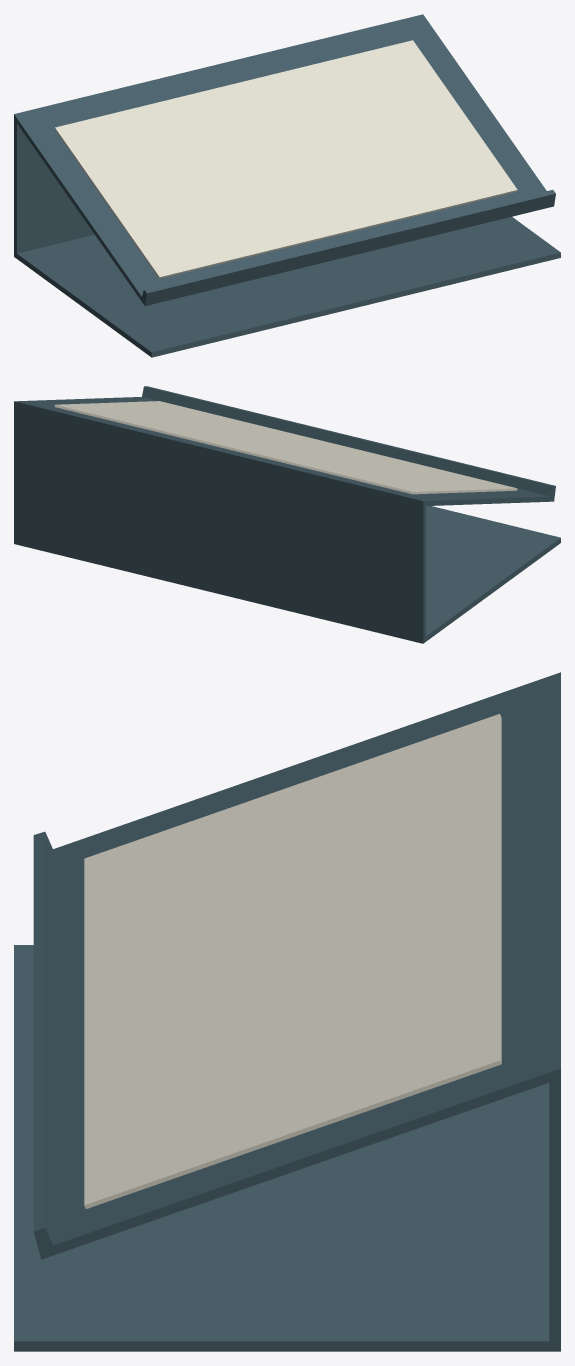
3 views of the same model, one above another, from view 1: azimuth 30°, elevation 25°; view 2: azimuth 150°, elevation 25°; view 3: azimuth 270°, elevation 25° (orthographic). The views are drawn at different scales.
Parts seen in each view (by area): view 1: WholeBlankLabelPlate, ContinuousFoldedStandWithLip; view 2: ContinuousFoldedStandWithLip, WholeBlankLabelPlate; view 3: ContinuousFoldedStandWithLip, WholeBlankLabelPlate.
Part boxes in pixels (left/top/right/bottom): WholeBlankLabelPlate: left=54, top=40, right=517, bottom=278; ContinuousFoldedStandWithLip: left=14, top=14, right=560, bottom=357; ContinuousFoldedStandWithLip: left=14, top=386, right=560, bottom=643; WholeBlankLabelPlate: left=54, top=401, right=517, bottom=494; ContinuousFoldedStandWithLip: left=14, top=672, right=560, bottom=1351; WholeBlankLabelPlate: left=84, top=714, right=501, bottom=1208.
Size of the model in its own units: 0.24 by 0.08 by 0.14.
